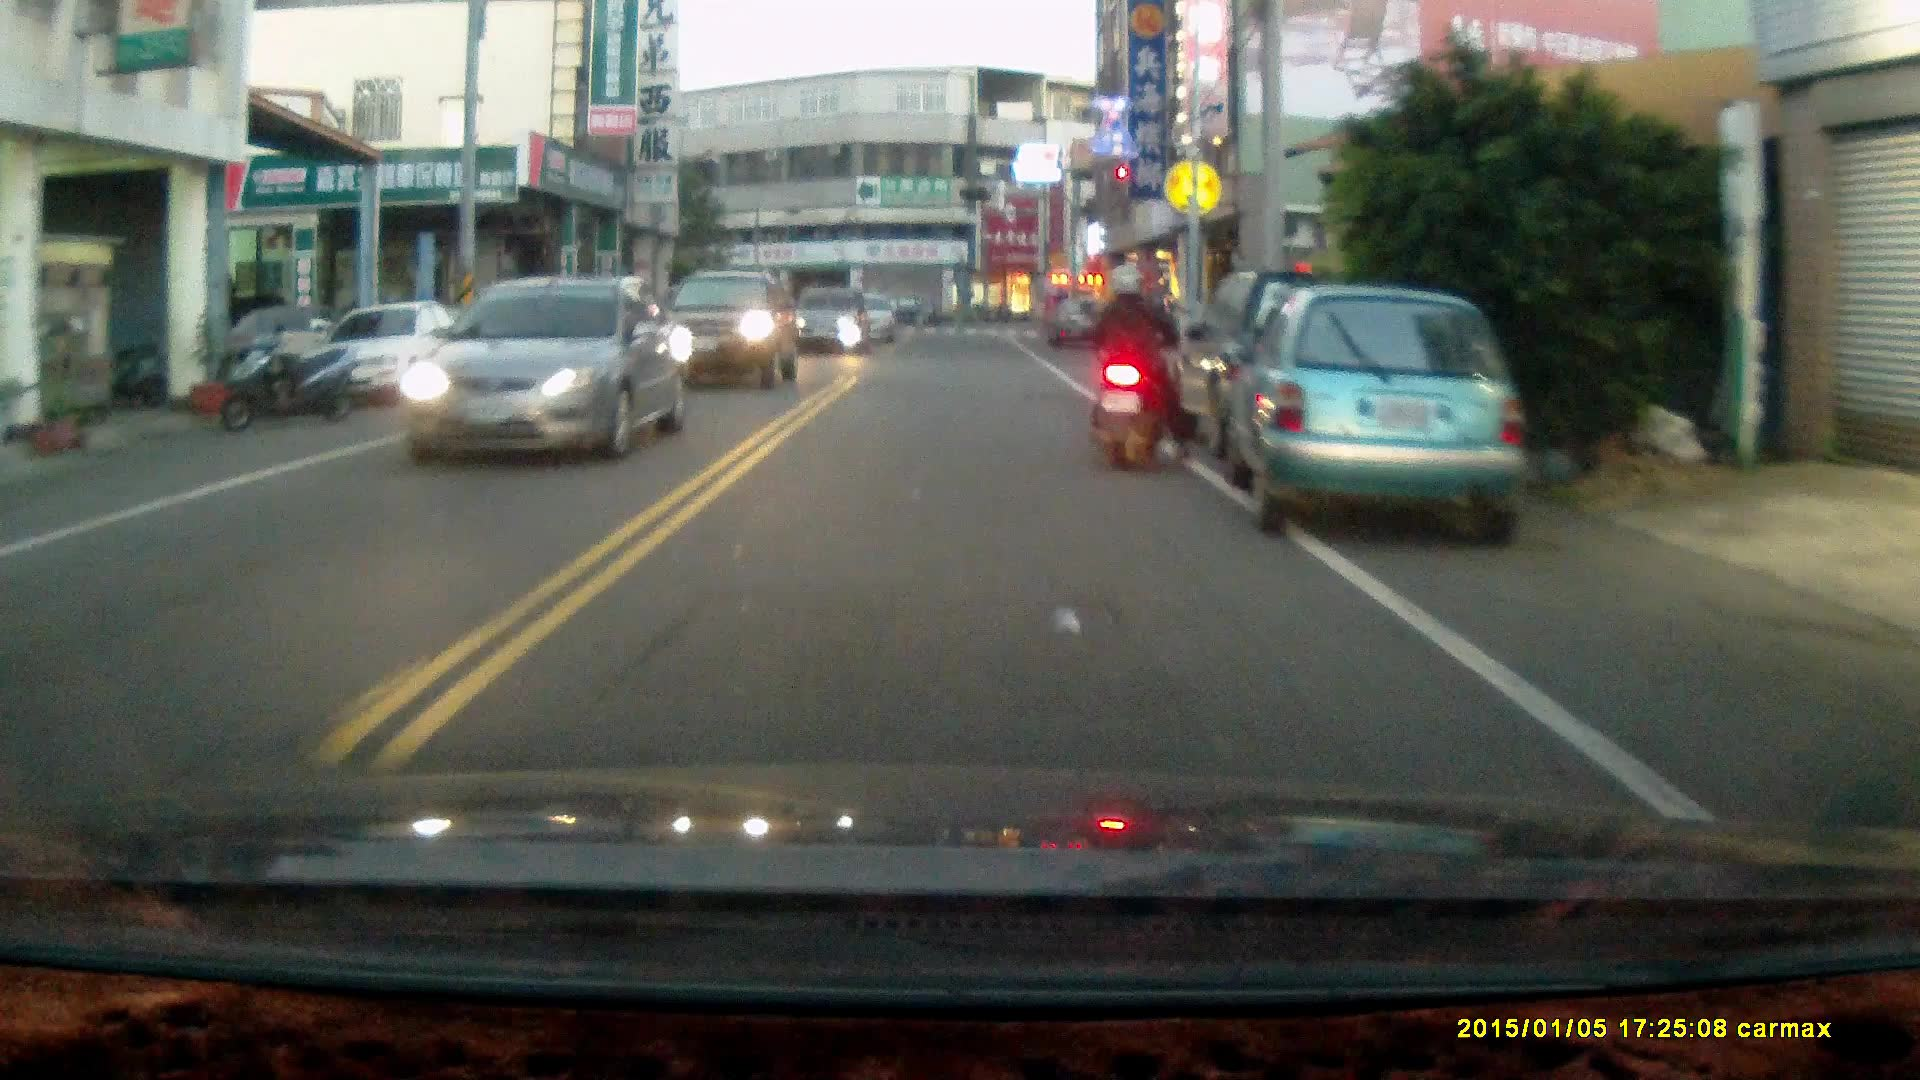rider: (1089, 264, 1191, 472)
vehicle: (1222, 286, 1537, 548), (1153, 269, 1432, 464), (397, 281, 688, 467), (291, 304, 494, 405), (658, 272, 803, 395), (786, 291, 872, 357)
